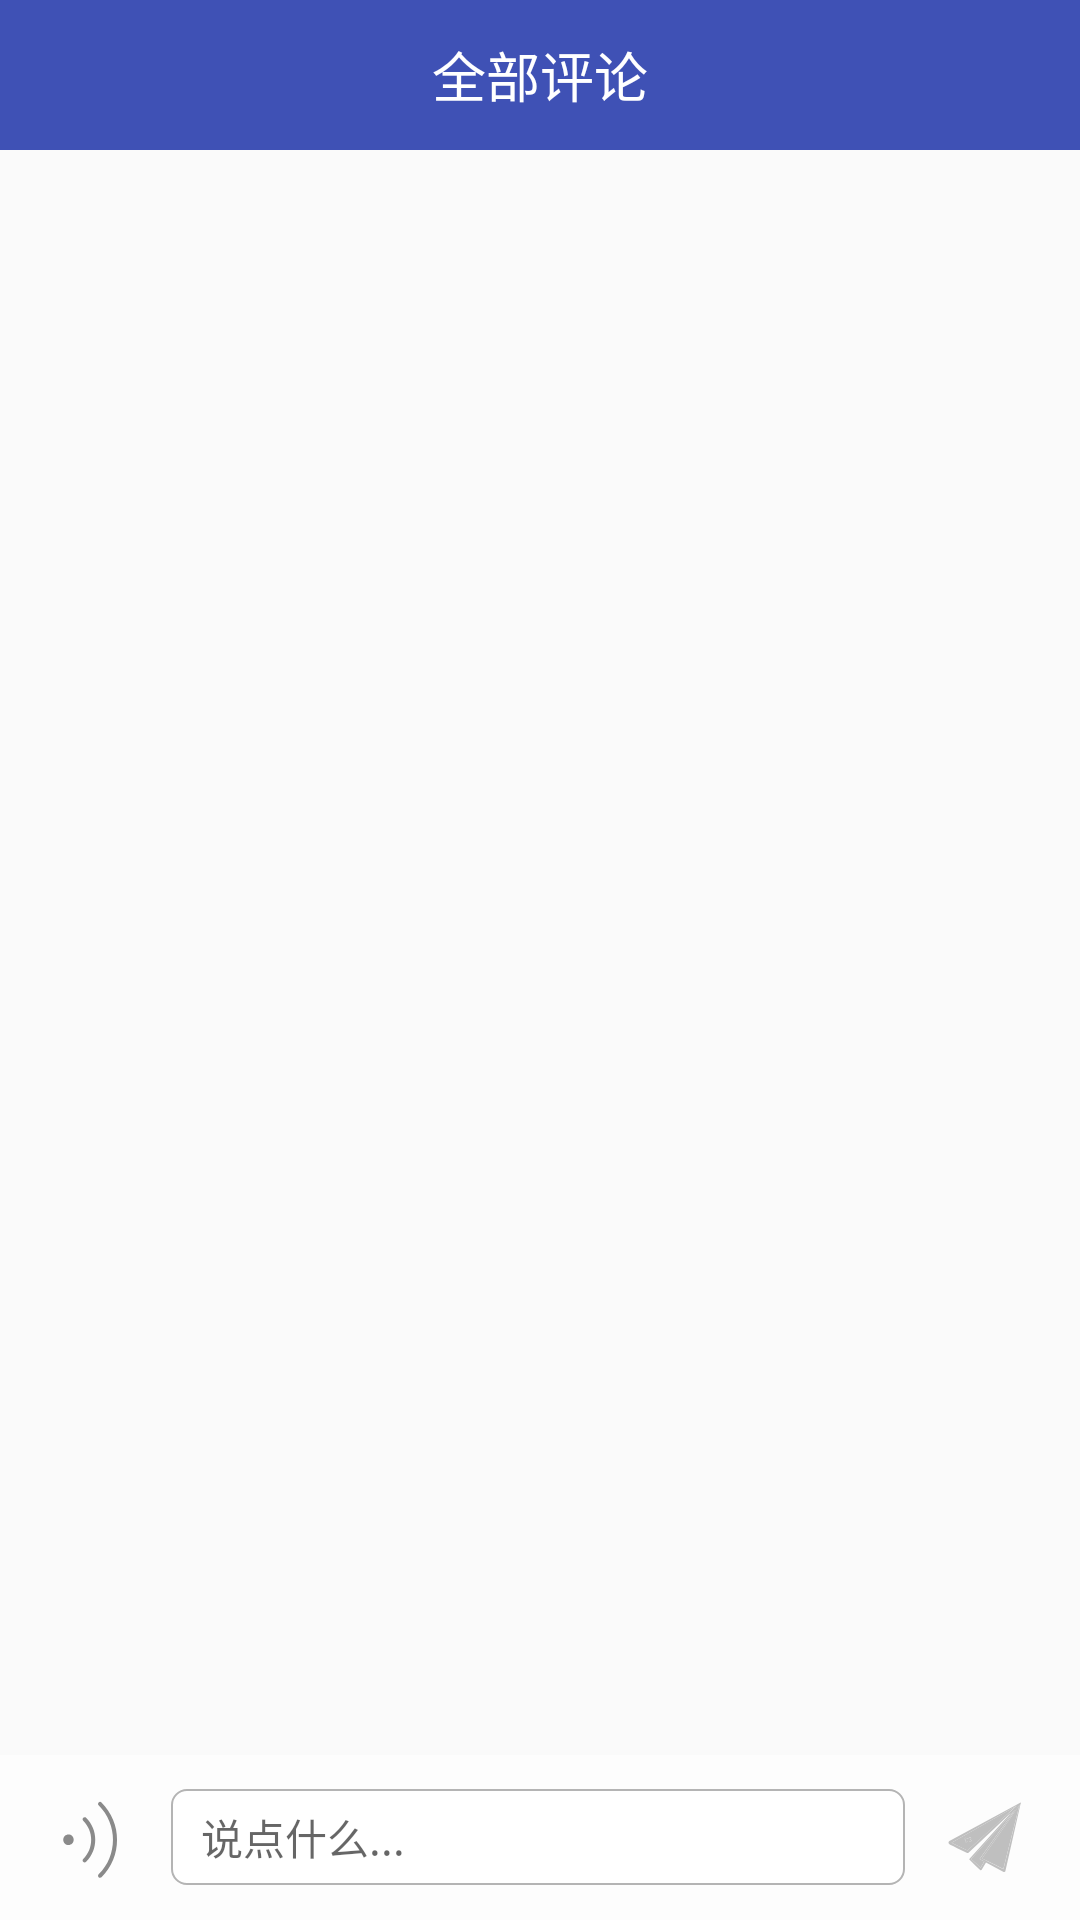

Screen size 1080×1920. Icon name, then its center in pixels as [x,y]:
record: [90,1840]
send: [984,1837]
